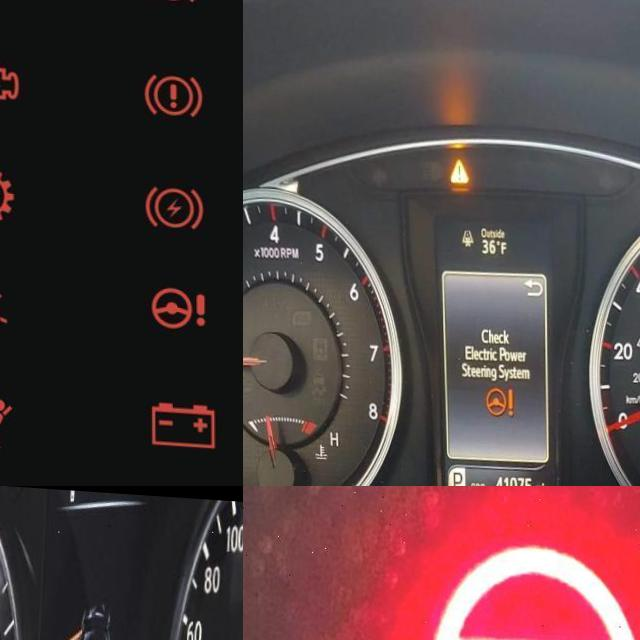Electronic Power Steering: (146, 285, 211, 329), (479, 380, 517, 415)
Electronic Power Steering Warning: (429, 531, 640, 640)
